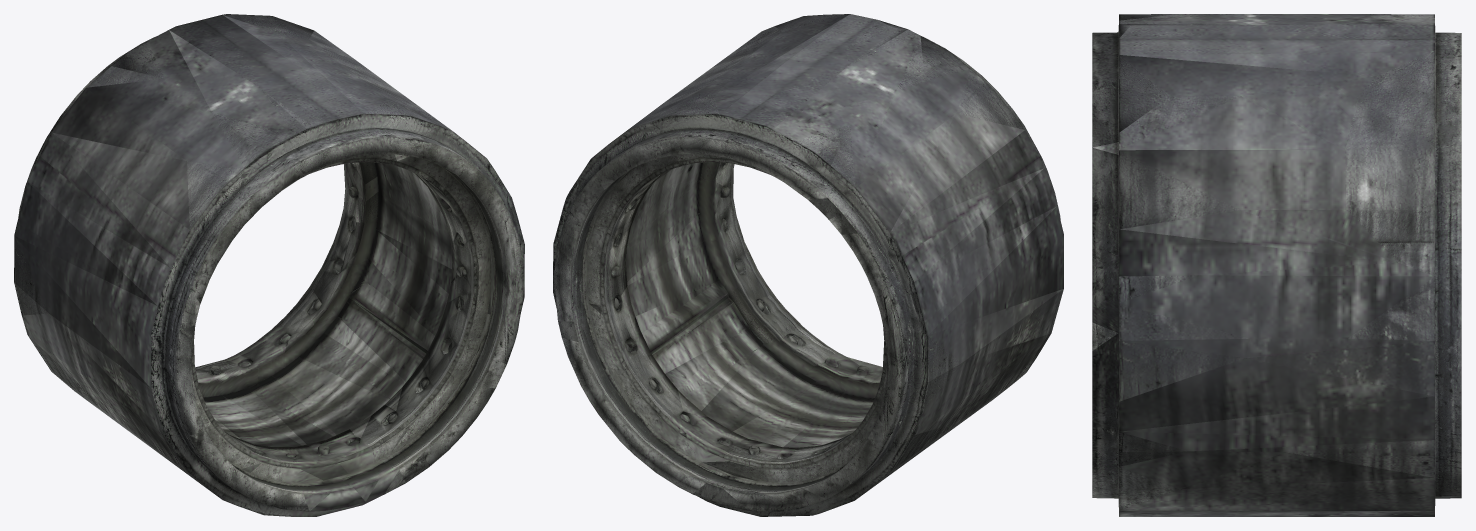
The model's file is TunnelBeton.fbx.
3 views of the same model, side by side, from view 1: azimuth 30°, elevation 25°; view 2: azimuth 150°, elevation 25°; view 3: azimuth 270°, elevation 25° (orthographic). The views are drawn at different scales.
Visible parts, largest first — view 1: Mesh_0; view 2: Mesh_0; view 3: Mesh_0.
Part boxes in pixels (box(x1,y1,x2,y2)): Mesh_0: box(14, 14, 524, 516); Mesh_0: box(553, 14, 1063, 516); Mesh_0: box(1092, 14, 1461, 516).
Size of the model in its own units: 190 by 190 by 140.
1 material, 1 textured.
